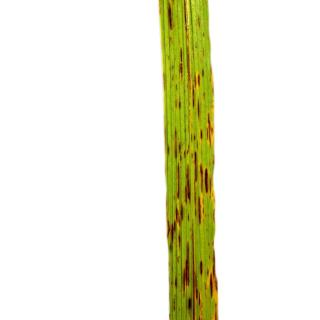Bercak-Cokelat-Sempit: (177, 46, 200, 98), (180, 240, 198, 304), (208, 241, 224, 303), (163, 208, 186, 250), (208, 152, 218, 212), (172, 125, 180, 199), (202, 113, 215, 150), (182, 1, 192, 44), (184, 164, 191, 208), (165, 2, 175, 32), (192, 151, 202, 181), (196, 194, 205, 225), (194, 98, 206, 120), (182, 142, 193, 160), (194, 258, 205, 276), (191, 131, 197, 145)
